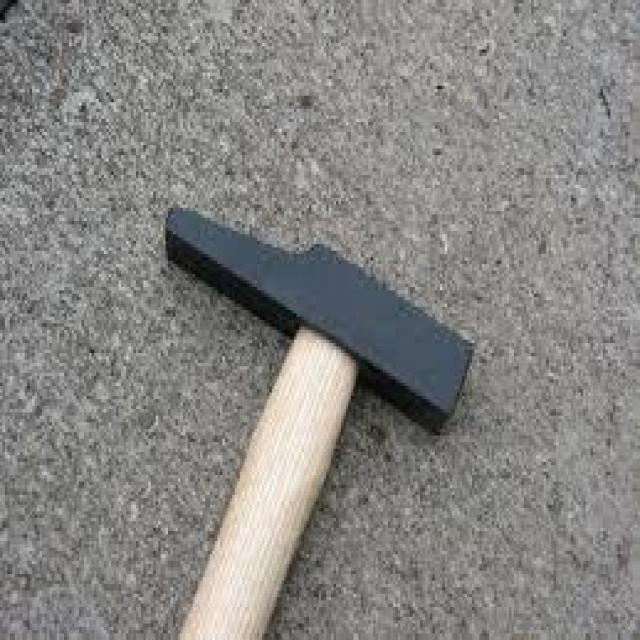hammer: (127, 198, 483, 640)
